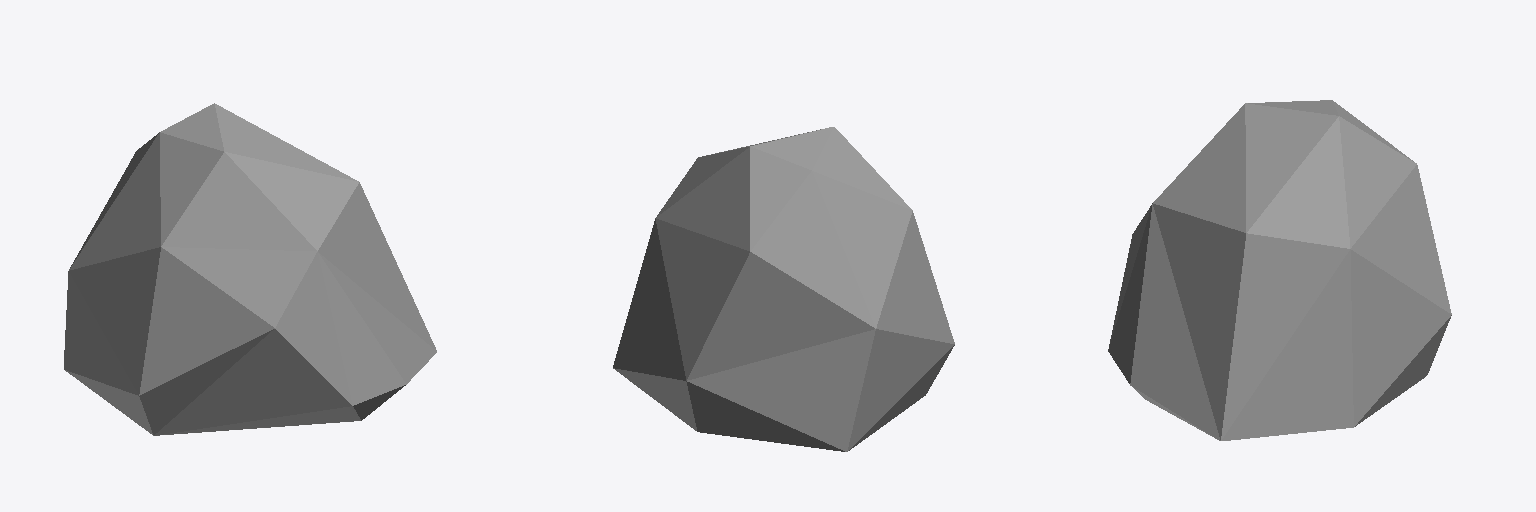
The model's file is Low_Poly_Rock_Big_004.obj.
3 views of the same model, side by side, from view 1: azimuth 30°, elevation 25°; view 2: azimuth 150°, elevation 25°; view 3: azimuth 270°, elevation 25° (orthographic).
Visible parts, largest first — view 1: Low_Poly_Rock_Big_004_Icosphere.007; view 2: Low_Poly_Rock_Big_004_Icosphere.007; view 3: Low_Poly_Rock_Big_004_Icosphere.007.
Part boxes in pixels (left/top/right/bottom): Low_Poly_Rock_Big_004_Icosphere.007: left=64, top=103, right=436, bottom=435; Low_Poly_Rock_Big_004_Icosphere.007: left=613, top=127, right=954, bottom=451; Low_Poly_Rock_Big_004_Icosphere.007: left=1108, top=100, right=1451, bottom=440.
Size of the model in its own units: 6.55 by 5.53 by 6.42.